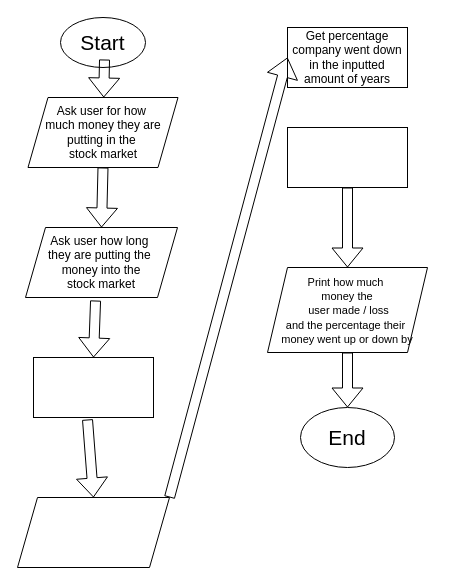
Some shapes in this 455 by 585 pixel diagram are drawn without their labels. The shapes that lost their labels are listed below. From the top down, each one's centre as x and y in pixels, then its label:
point (347, 157): Use percentage to calculate users new amount of money
point (93, 387): tells the user how many of each stock they can buy with their money
point (93, 532): Ask user what stock they are putting there money into
